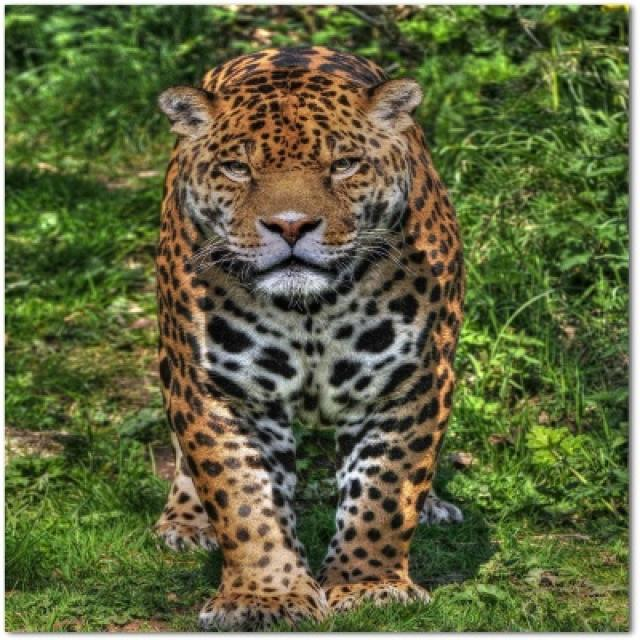Jaguar: (155, 46, 466, 632)
